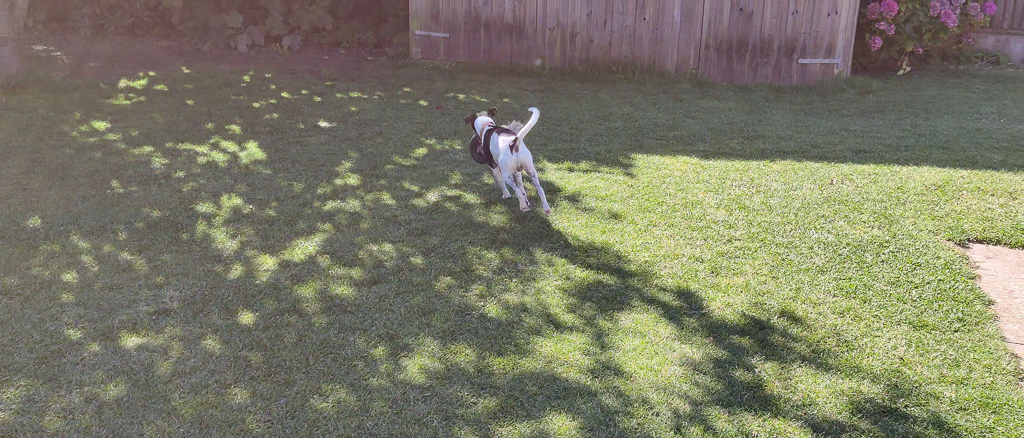Dog: (455, 94, 563, 226)
